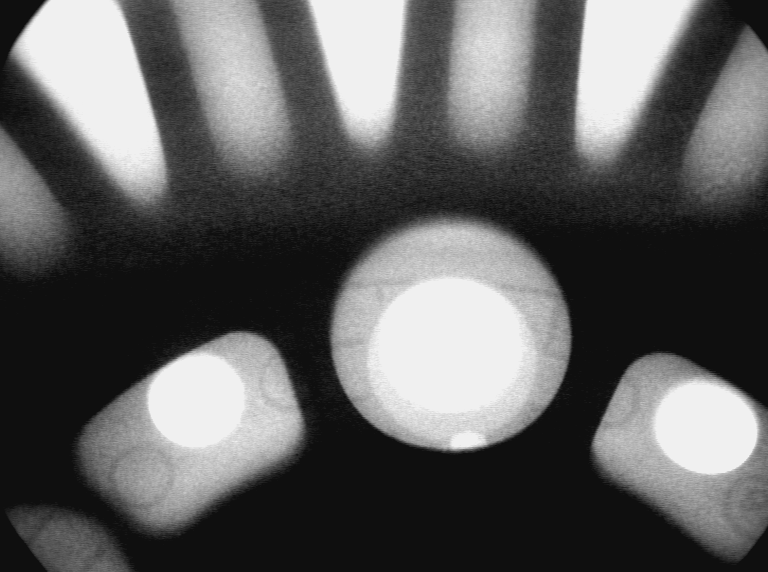defect: (447, 428, 490, 457)
